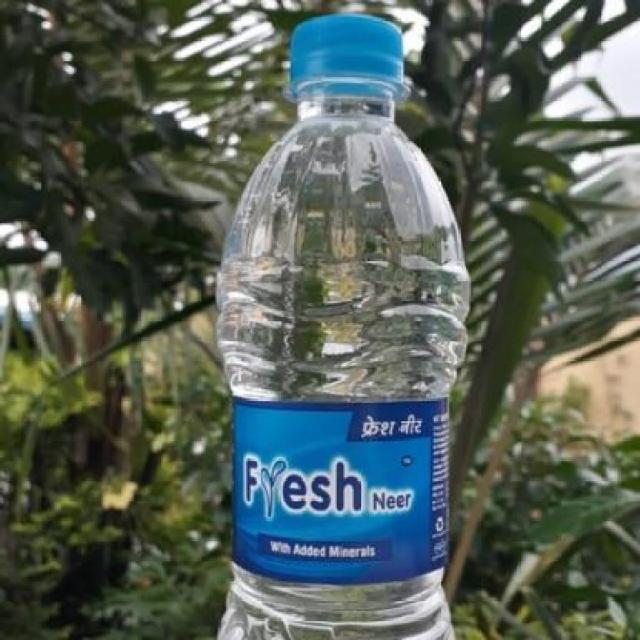bottle: (216, 12, 478, 639)
